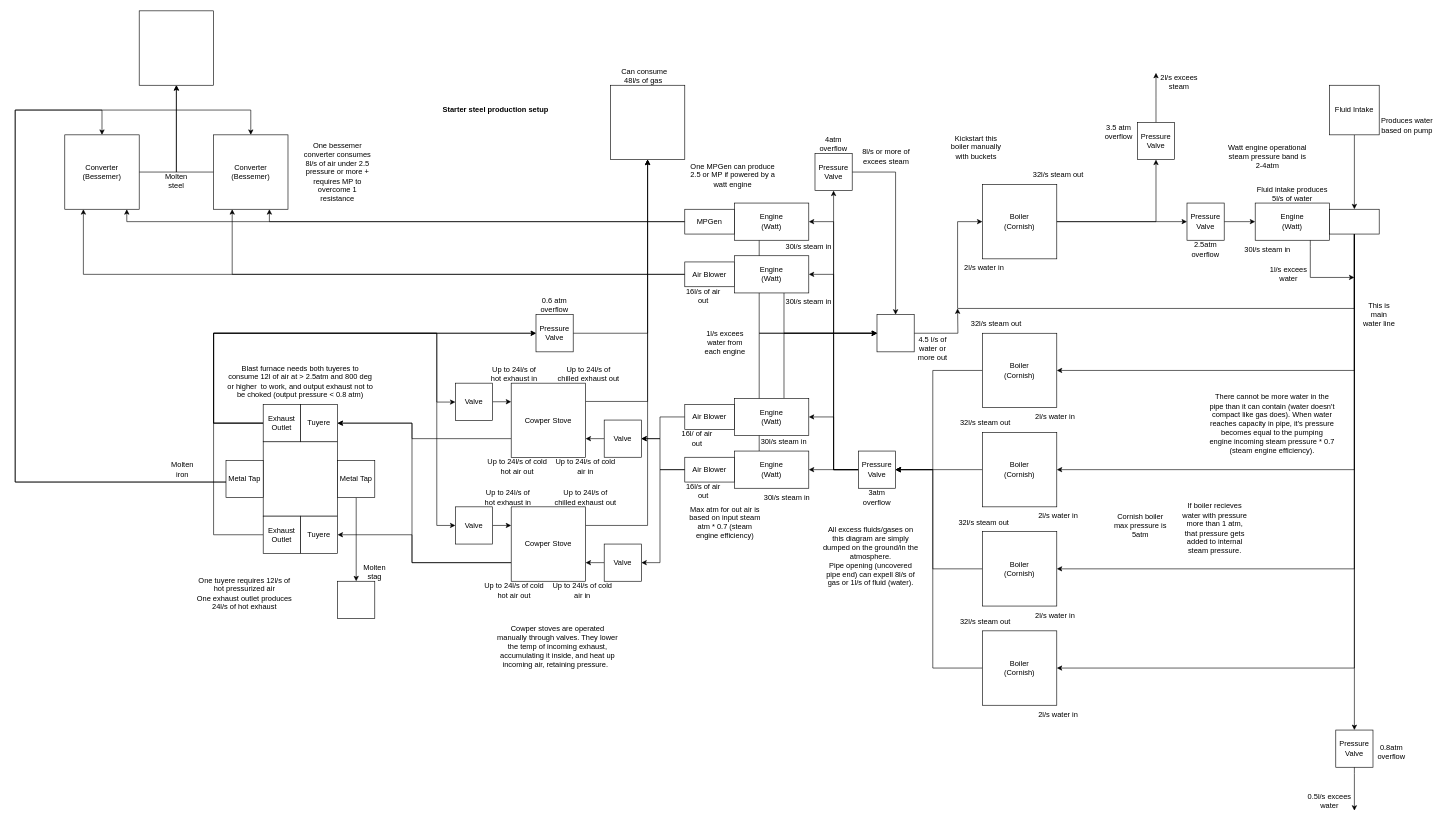
This 1446x826 diagram has some shape labels left out. The box of each missing label's shape, as (x1, y1, x2, y2) in pixels:
Barrel: (337, 581, 375, 618)
Blast Furnace: (263, 441, 338, 516)
Fluid Pump: (1329, 209, 1379, 234)
Molds: (139, 10, 214, 85)
Smoke Stack: (610, 85, 685, 160)
Steam condenser: (876, 314, 914, 352)
